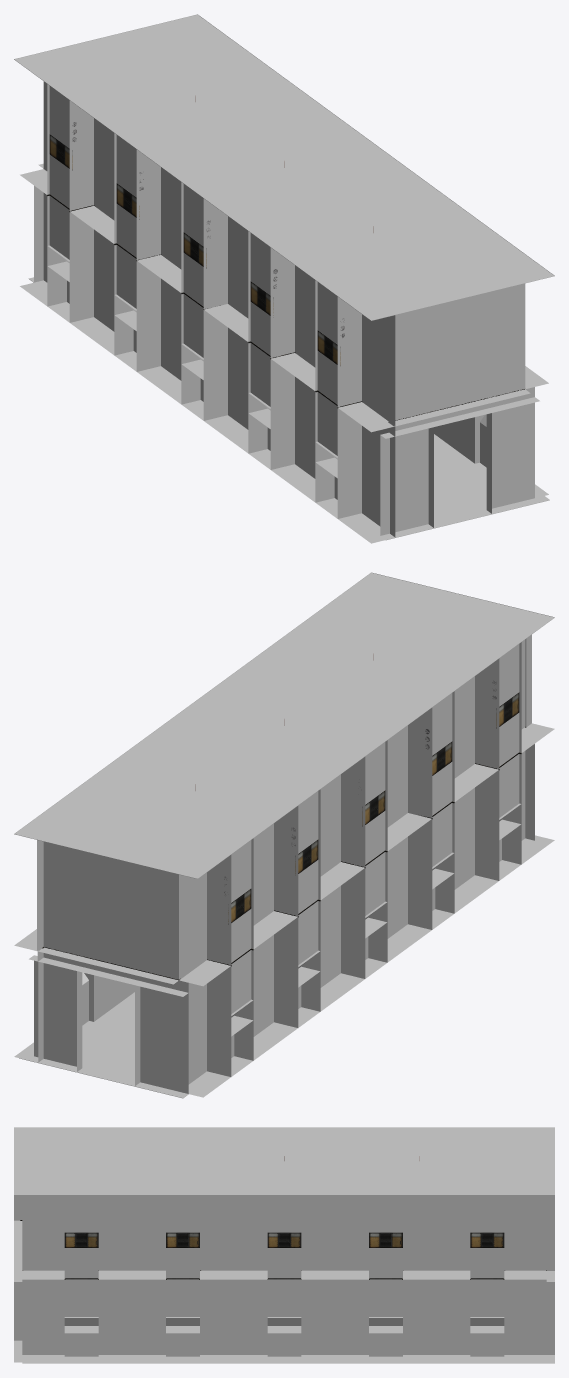
The picture shows the model from 3 angles, top to bottom: view 1: azimuth 30°, elevation 25°; view 2: azimuth 150°, elevation 25°; view 3: azimuth 270°, elevation 25°; orthographic projection. The views are drawn at different scales.
Parts seen in each view (by area): view 1: classname=brush; view 2: classname=brush; view 3: classname=brush.
Boxes of the visible parts, x1,y1,x2,y2 form: classname=brush: (14, 14, 554, 543); classname=brush: (14, 572, 554, 1098); classname=brush: (14, 1127, 554, 1363).
Bounding box in the file's own units: 60800 × 72783 × 204800.
